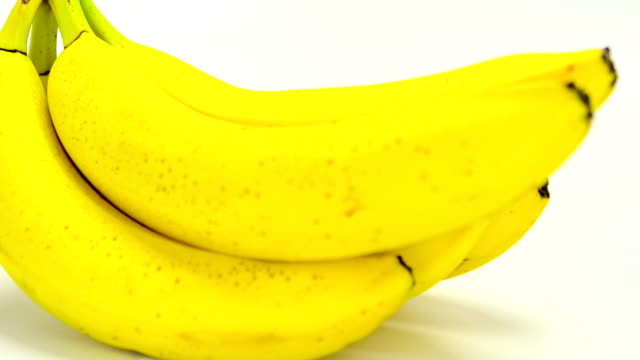looks_defective: (31, 25, 640, 360)
